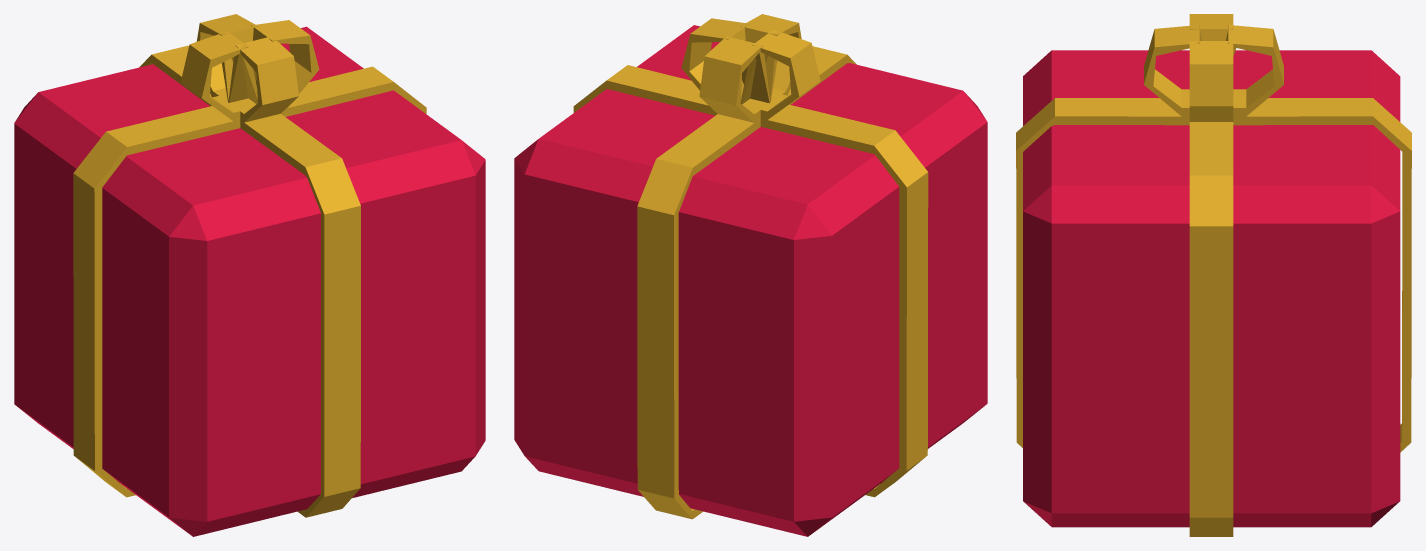
File: Present.fbx
3 renders of one model, left to right at view 1: azimuth 30°, elevation 25°; view 2: azimuth 150°, elevation 25°; view 3: azimuth 270°, elevation 25°, orthographic. The views are drawn at different scales.
Visible parts, largest first — view 1: Cube, Cube.002; view 2: Cube, Cube.002; view 3: Cube, Cube.002.
Boxes of the visible parts, left/top/right/bottom form: Cube: left=14, top=26, right=485, bottom=536; Cube.002: left=73, top=14, right=426, bottom=517; Cube: left=514, top=25, right=987, bottom=536; Cube.002: left=573, top=14, right=928, bottom=519; Cube: left=1023, top=50, right=1400, bottom=527; Cube.002: left=1016, top=14, right=1411, bottom=536.
Size of the model in its own units: 31.46 by 38.11 by 31.46.
